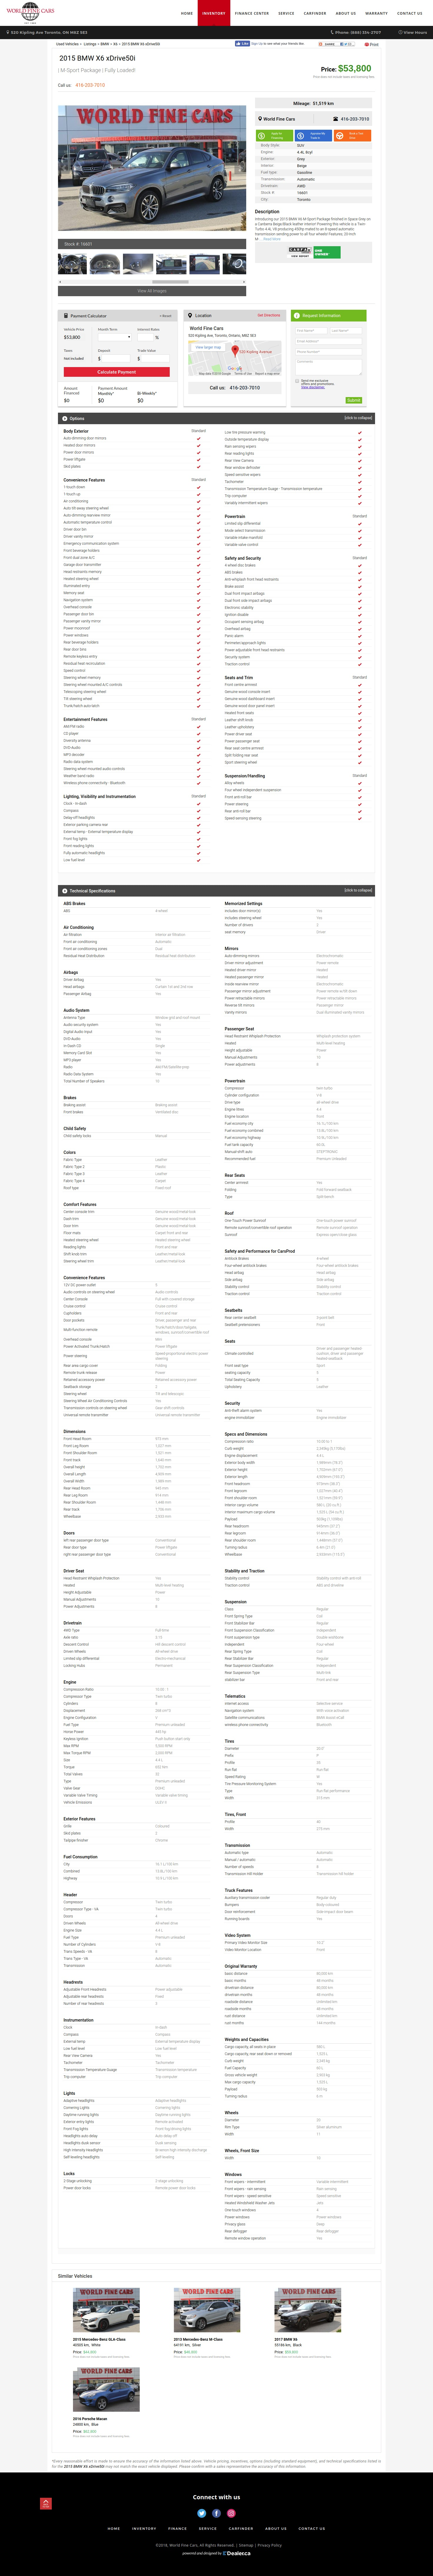car: (238, 164, 243, 173)
